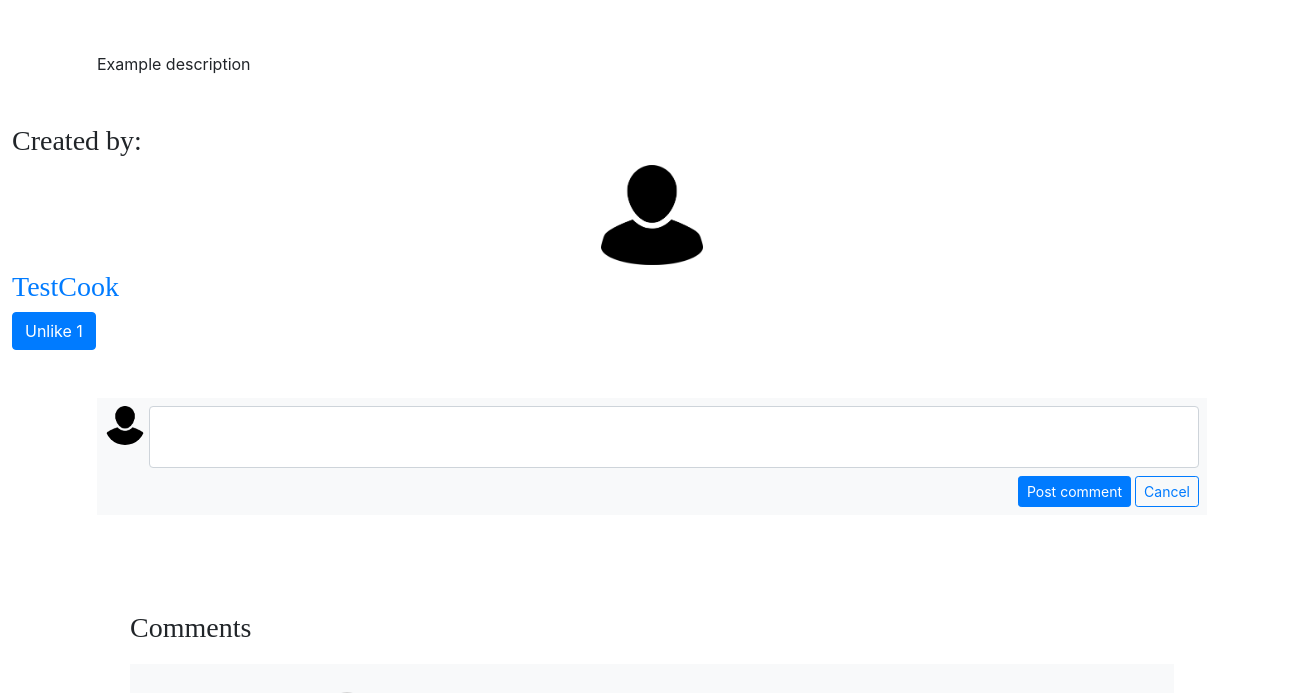
Test case: RecipeDetails › unlike functionality works correctly
This screenshot has width=1292, height=693.
(page scrolled)
Click the button with test id "recipe-details-unlike-cta": (54, 331) [12, 312, 96, 350]
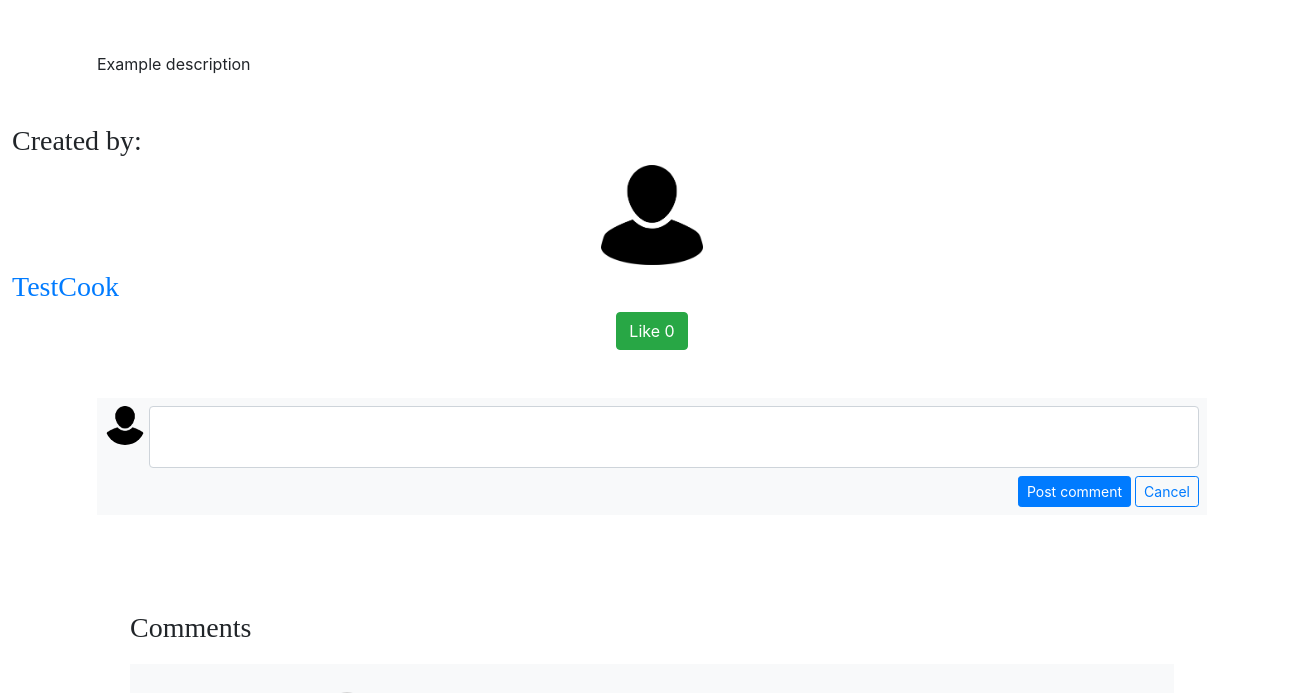
Check: the button with test id "recipe-details-like-cta" reads "Like 0", box [616, 312, 688, 350]
